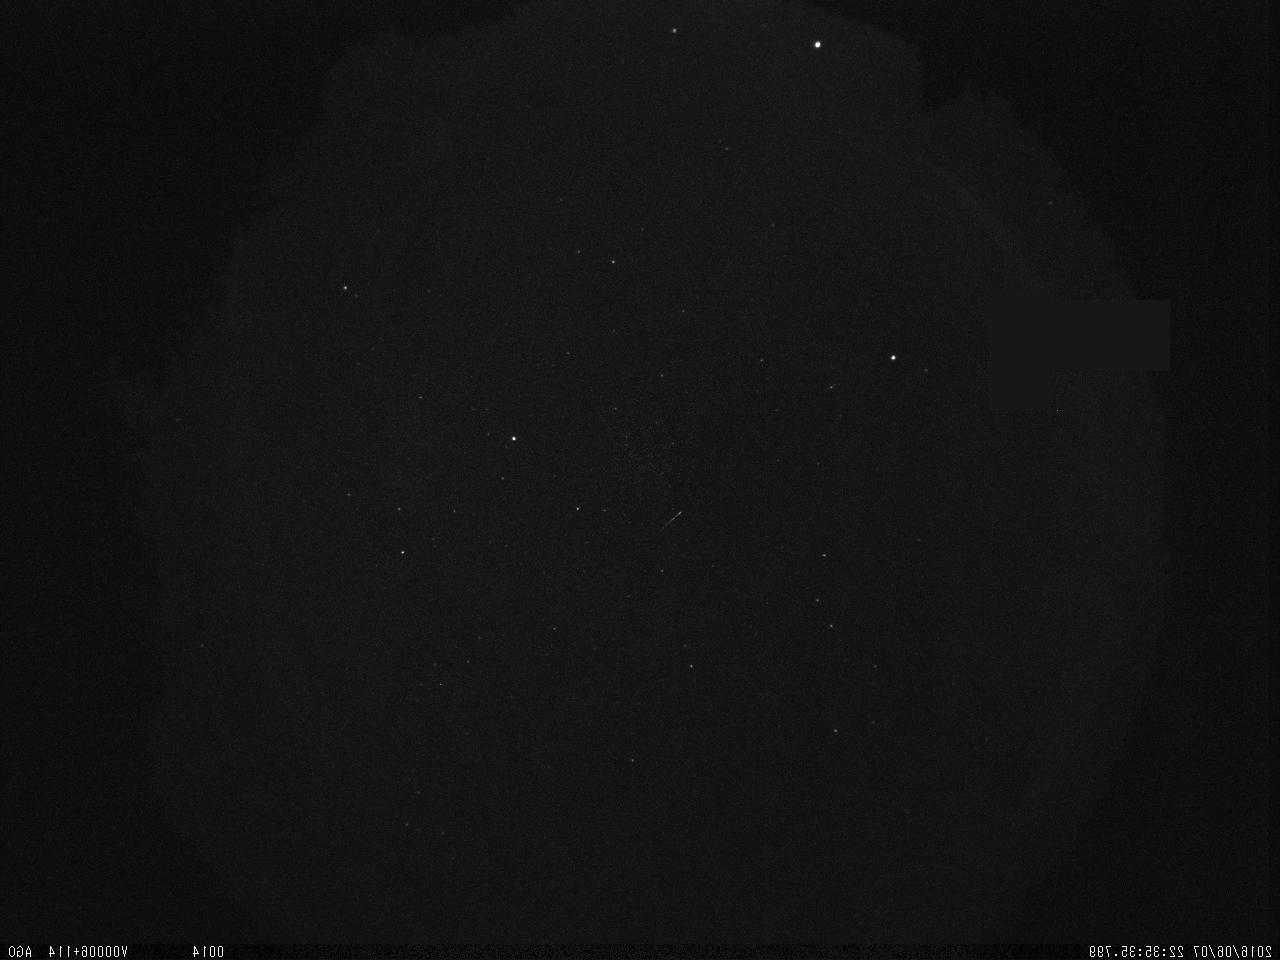meteor: (647, 498, 690, 541)
